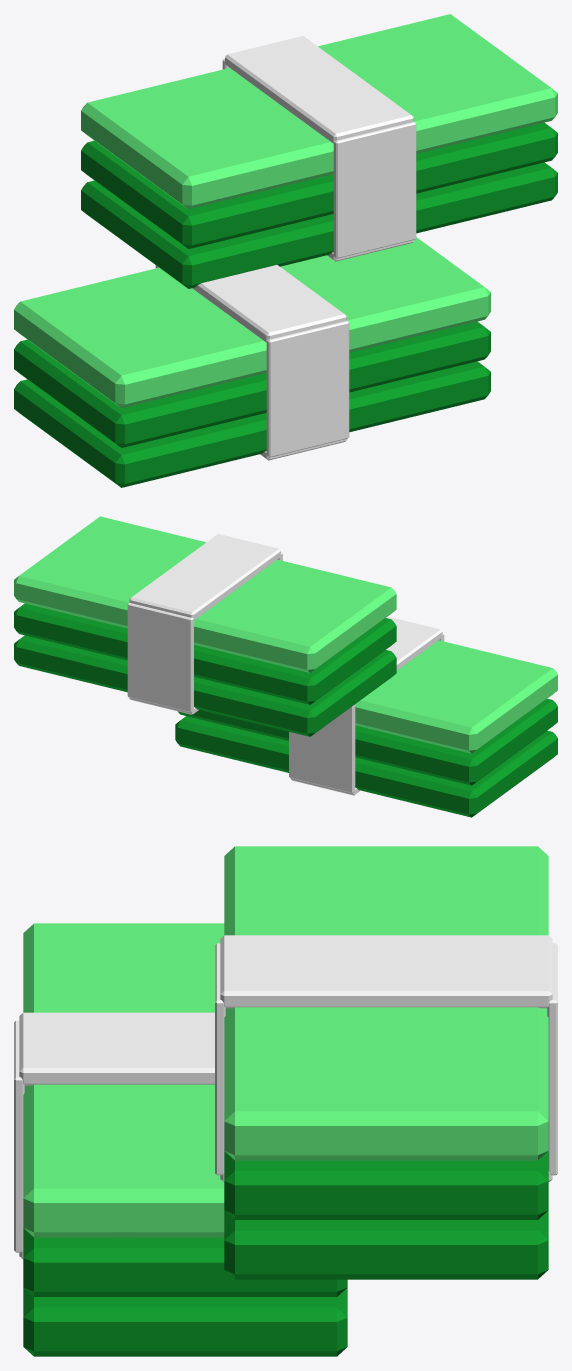
Rendered from PWR_double_cash__v001__model.fbx.
The picture shows the model from 3 angles, top to bottom: view 1: azimuth 30°, elevation 25°; view 2: azimuth 150°, elevation 25°; view 3: azimuth 270°, elevation 25°; orthographic projection. The views are drawn at different scales.
Visible parts, largest first — view 1: PWR_double_cash_Mesh; view 2: PWR_double_cash_Mesh; view 3: PWR_double_cash_Mesh.
Boxes of the visible parts, <box> form: PWR_double_cash_Mesh: <box>14,14,557,487</box>; PWR_double_cash_Mesh: <box>14,516,557,817</box>; PWR_double_cash_Mesh: <box>14,846,557,1356</box>.
Bounding box in the file's own units: 0.798 × 0.3657 × 0.4928.
Materials: 1 (1 with a texture image).
